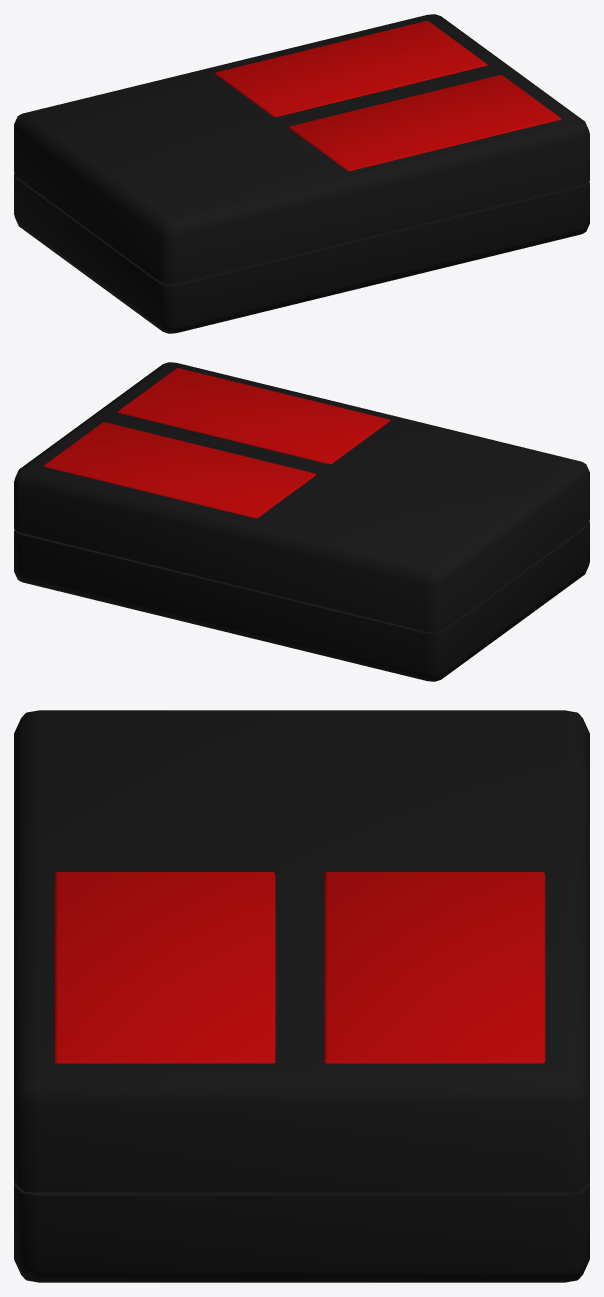
The model's file is receiver2.dae.
3 renders of one model, top to bottom at view 1: azimuth 30°, elevation 25°; view 2: azimuth 150°, elevation 25°; view 3: azimuth 270°, elevation 25°, orthographic. The views are drawn at different scales.
Parts seen in each view (by area): view 1: Empfänger, Empfänger.1 (×2), Ausschnitt; view 2: Empfänger, Empfänger.1 (×2), Ausschnitt; view 3: Empfänger, Empfänger.1 (×2), Ausschnitt.
Part boxes in pixels (x1,y1,x2,y2): Empfänger: (14, 14, 589, 333); Empfänger.1 (×2): (215, 21, 561, 171); Ausschnitt: (14, 173, 589, 285); Empfänger: (14, 362, 589, 681); Empfänger.1 (×2): (43, 368, 390, 518); Ausschnitt: (14, 521, 589, 633); Empfänger: (14, 710, 589, 1282); Empfänger.1 (×2): (54, 872, 545, 1063); Ausschnitt: (14, 1182, 589, 1195).
Size of the model in its own units: 110 by 28.33 by 70.
